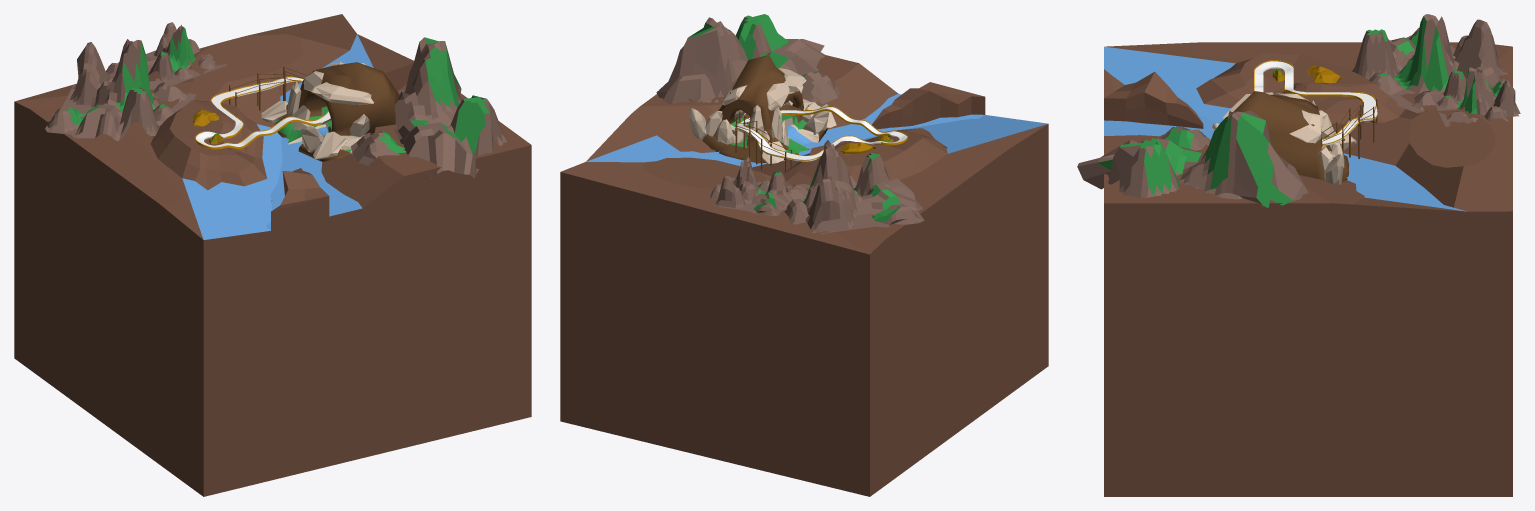
The model's file is environment for usman bhai.fbx.
The picture shows the model from 3 angles, left to right: view 1: azimuth 30°, elevation 25°; view 2: azimuth 150°, elevation 25°; view 3: azimuth 270°, elevation 25°; orthographic projection. The views are drawn at different scales.
Parts seen in each view (by area): view 1: pasted__ground, mourain_2, mountain, pasted__cave, mountain1, pasted__rocks_18, final track, pasted__rocks_11, pasted__rocks_2; view 2: pasted__ground, mourain_2, mountain, pasted__cave, mountain1, final track, pasted__rocks_2, pasted__rocks_1, pasted__rocks_18, pasted__rocks_11, Cube.029; view 3: pasted__ground, mourain_2, mountain, pasted__cave, mountain1, final track, pasted__rocks_1, Cube.029.
Part boxes in pixels (bbox=[...]): pasted__ground: bbox=[14, 14, 531, 496]; mourain_2: bbox=[351, 37, 506, 178]; mountain: bbox=[45, 39, 196, 141]; pasted__cave: bbox=[274, 62, 399, 161]; mountain1: bbox=[118, 22, 227, 85]; pasted__rocks_18: bbox=[300, 114, 369, 159]; final track: bbox=[196, 77, 330, 147]; pasted__rocks_11: bbox=[261, 82, 373, 122]; pasted__rocks_2: bbox=[287, 71, 323, 116]; pasted__ground: bbox=[560, 54, 1048, 496]; mourain_2: bbox=[656, 14, 839, 104]; mountain: bbox=[784, 140, 924, 233]; pasted__cave: bbox=[702, 54, 827, 163]; mountain1: bbox=[709, 156, 793, 216]; final track: bbox=[736, 107, 907, 161]; pasted__rocks_2: bbox=[748, 83, 789, 147]; pasted__rocks_1: bbox=[688, 85, 747, 143]; pasted__rocks_18: bbox=[800, 86, 836, 134]; pasted__rocks_11: bbox=[734, 68, 806, 163]; Cube.029: bbox=[735, 111, 792, 172]; pasted__ground: bbox=[1104, 42, 1512, 496]; mourain_2: bbox=[1077, 110, 1308, 208]; mountain: bbox=[1352, 14, 1508, 113]; pasted__cave: bbox=[1233, 91, 1349, 182]; mountain1: bbox=[1430, 67, 1520, 126]; final track: bbox=[1254, 61, 1377, 145]; pasted__rocks_1: bbox=[1289, 110, 1343, 184]; Cube.029: bbox=[1321, 99, 1378, 158].
Size of the model in its own units: 49753 by 47050 by 51515.
